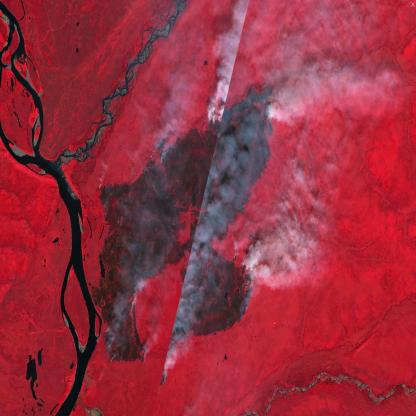fire: (90, 76, 280, 390)
